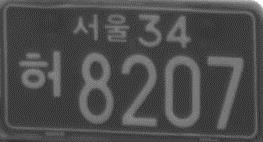0: (164, 55, 203, 128)
2: (119, 53, 161, 129)
3: (135, 12, 163, 48)
4: (164, 14, 191, 49)
7: (206, 53, 247, 131)
8: (76, 51, 115, 123)
서울_O: (73, 12, 131, 46)
허: (17, 49, 64, 99)
